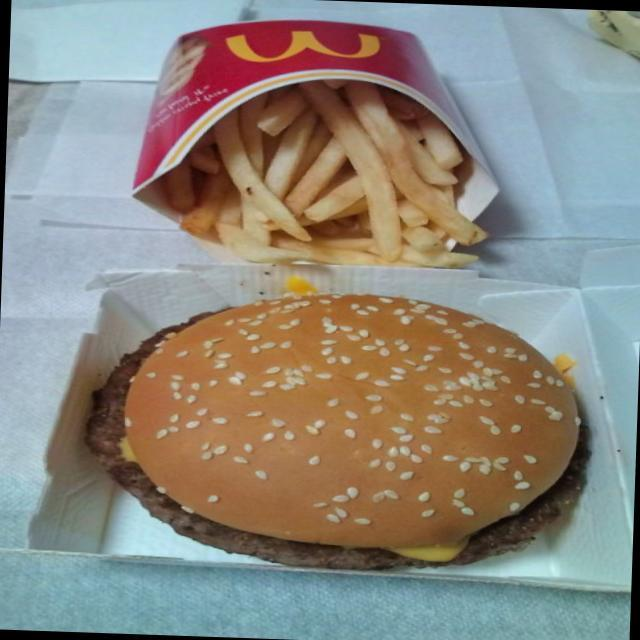French Fries: (146, 77, 512, 281)
Hamburger: (79, 275, 596, 588)
